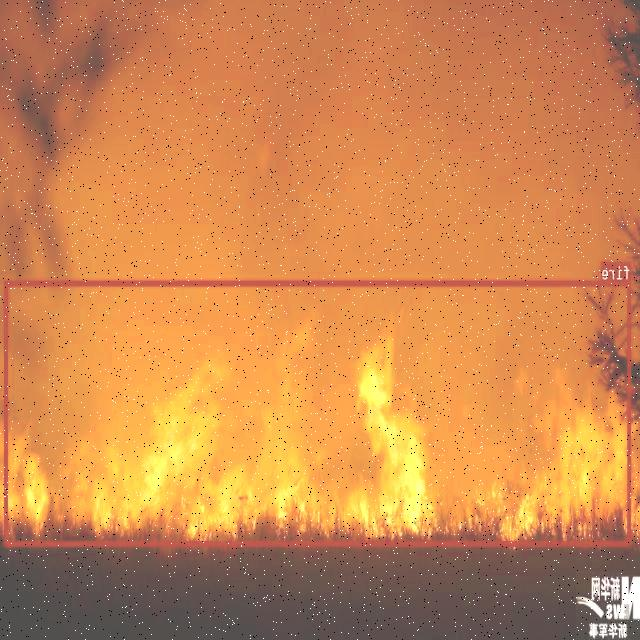fire: (5, 280, 632, 545)
